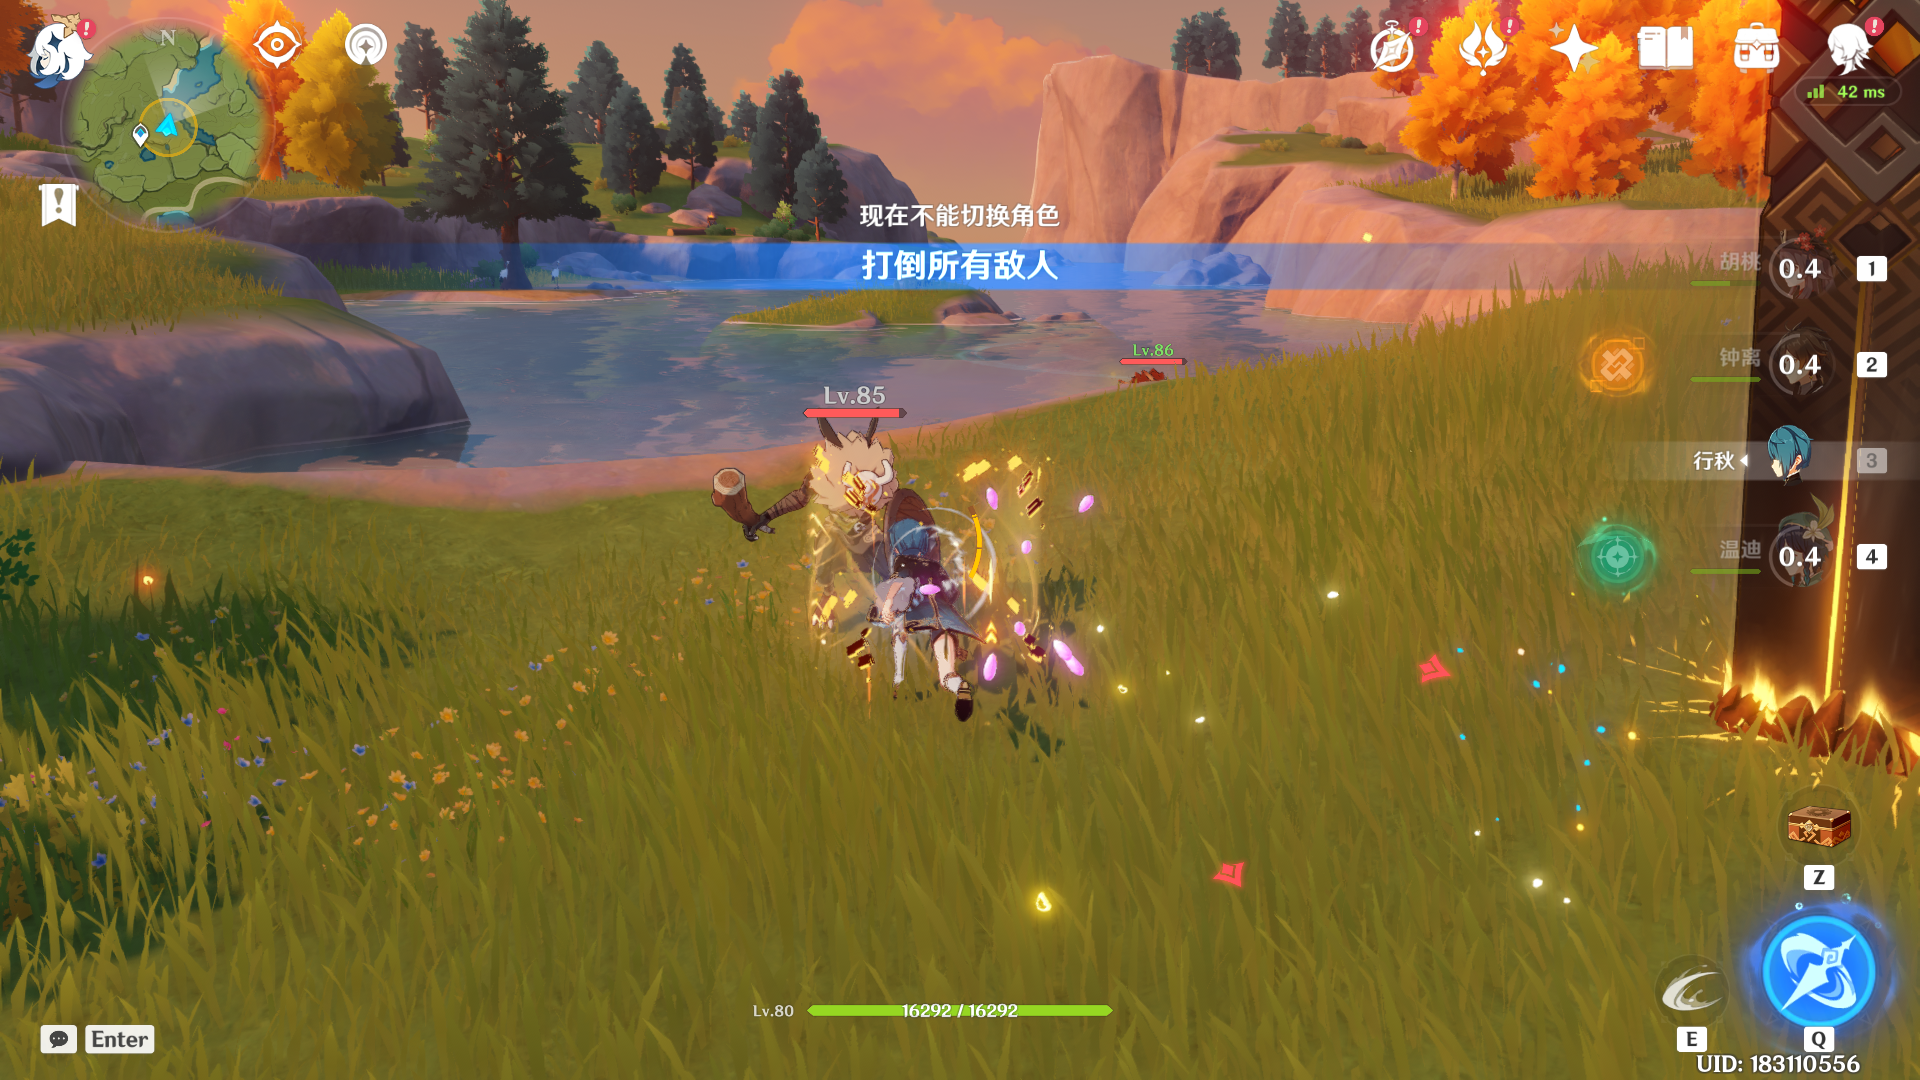character: (829, 485, 1098, 793)
hili: (731, 386, 923, 680)
